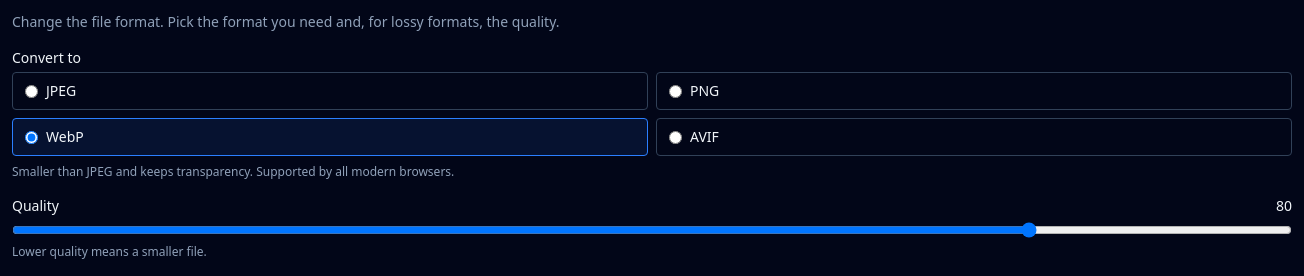
it: convert panel › picks a format and shows its hint
The image size is (1304, 276).
Check: the radio button labelled "WebP" is checked, box [25,130,38,144]
Click the radio button labelled "JPEG": (32, 91) [25,84,38,98]
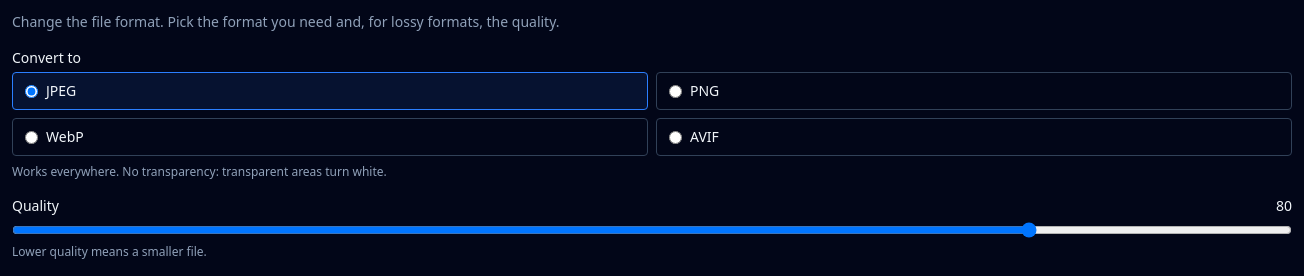
Check: the radio button labelled "JPEG" is checked, box [25,84,38,98]
Check: the text "transparent areas turn white" is shown, box [12,163,387,180]
